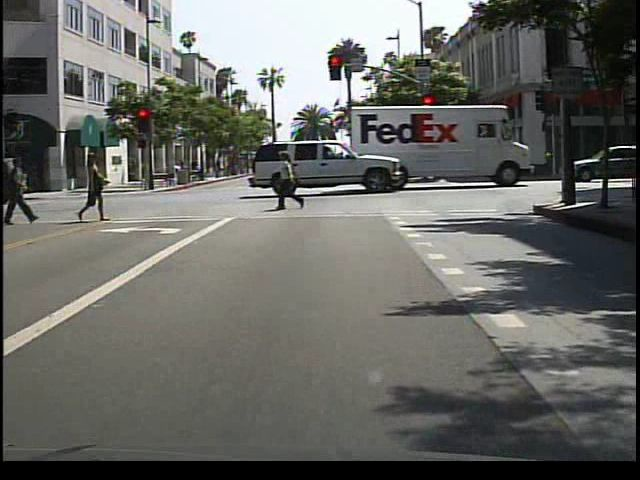person: (80, 148, 115, 224), (276, 148, 312, 213), (9, 153, 40, 226), (190, 156, 203, 180)
